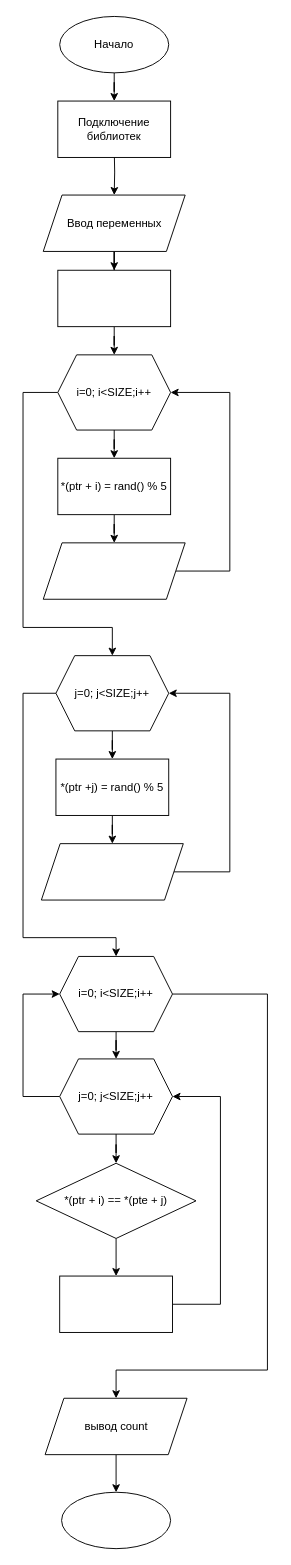
Some shapes in this 291 by 1565 pixel diagram are drawn without their labels. Here are the shapes that lost their labels. From the top down, the centre of each, then its label:
the point at 114,298: srand((unsigned) time(NULL))
the point at 113,570: вывод *(ptr + i)
the point at 111,871: вывод *(ptr + j)
the point at 115,1303: count++
the point at 116,1520: Конец
